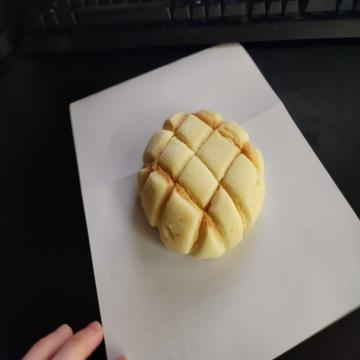melon_bread: (136, 106, 267, 259)
